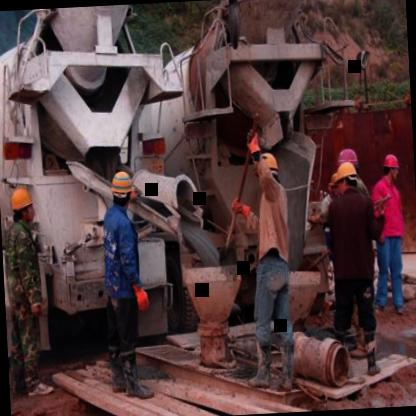helmet: (254, 146, 281, 192), (8, 182, 36, 226), (108, 170, 138, 209), (336, 160, 360, 196), (379, 148, 399, 184), (336, 145, 360, 173)
